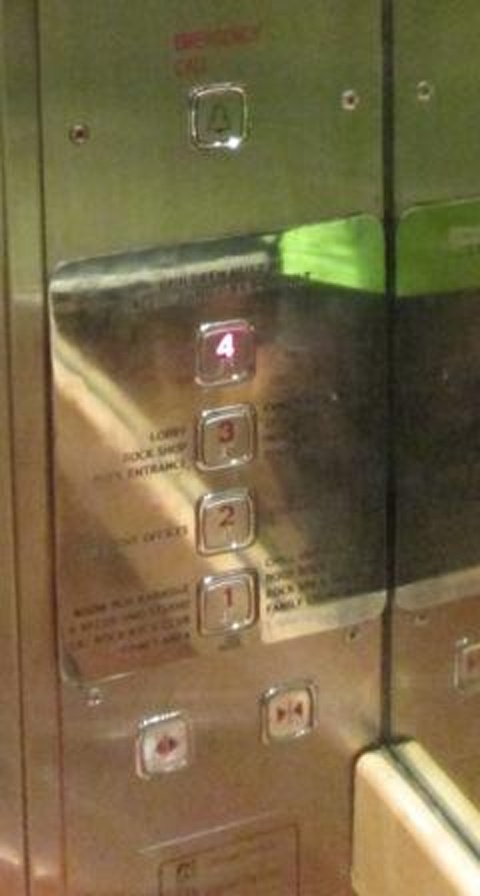1: (196, 568, 260, 635)
2: (195, 488, 257, 556)
3: (195, 403, 258, 470)
4: (194, 317, 258, 386)
alarm: (188, 83, 248, 151)
close: (259, 682, 318, 745)
open: (133, 709, 196, 780)
